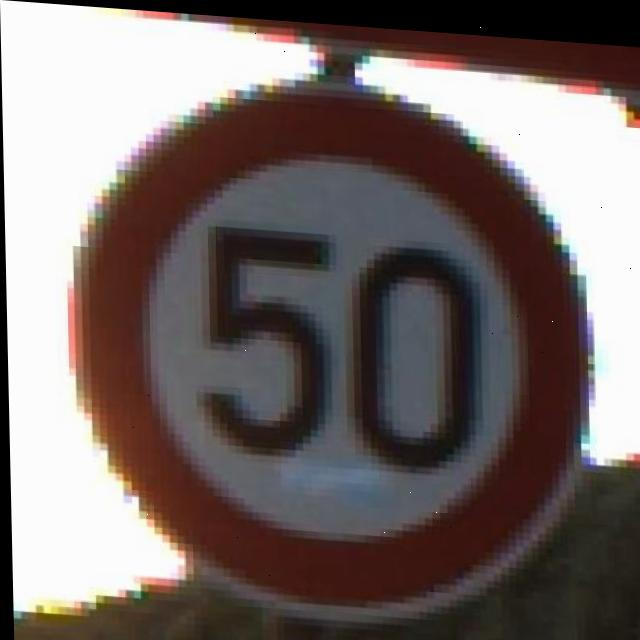Speed limit 50: (62, 58, 593, 624)
